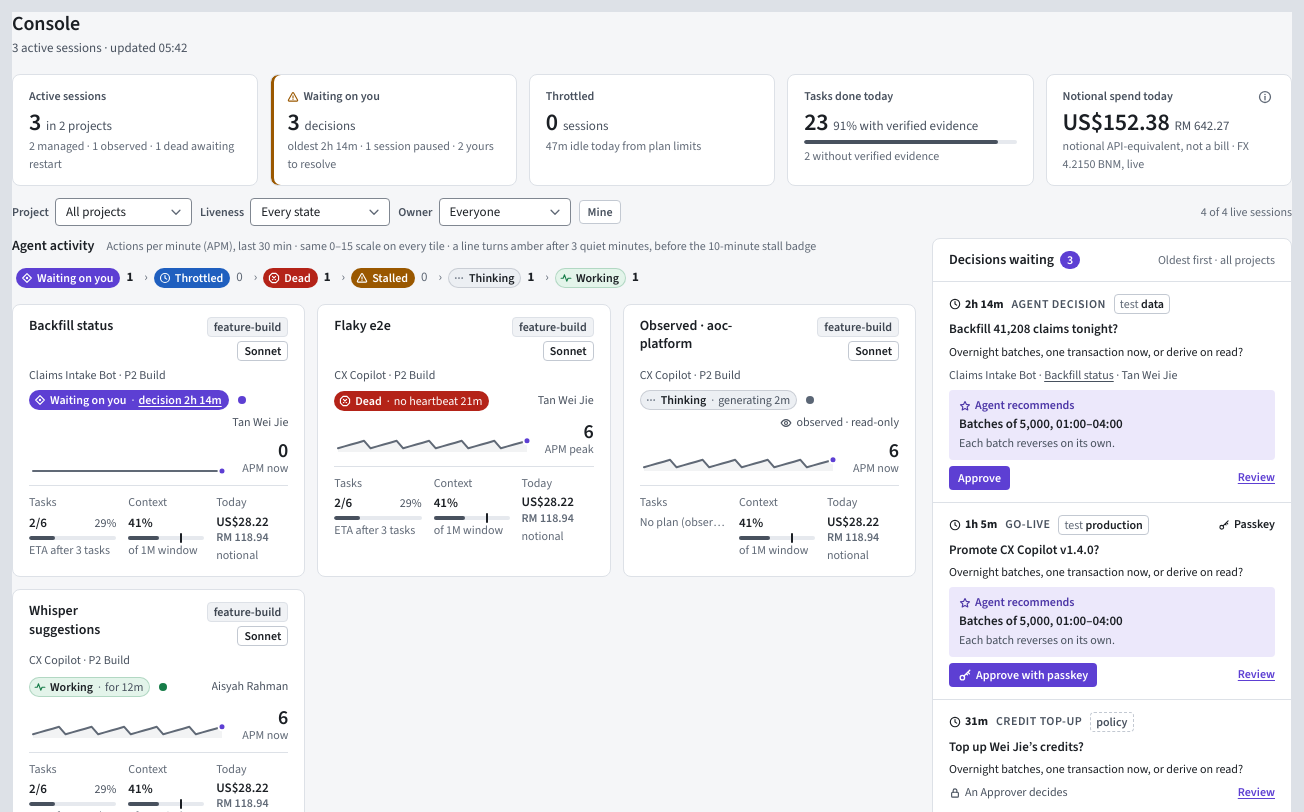
Test: ConsolePage › approves the recommended option from the rail and is role-aware for the rest
Check: the text "An Approver decides" is shown, box [949,784,1068,801]
Check: the text "Agent recommends" below "Agent decision" is shown, box [975,397,1074,413]
Click the button with aria-label "Approve: Batches of 5,000, 01:00–04:00".
click(980, 478)  # box [949,466,1010,490]
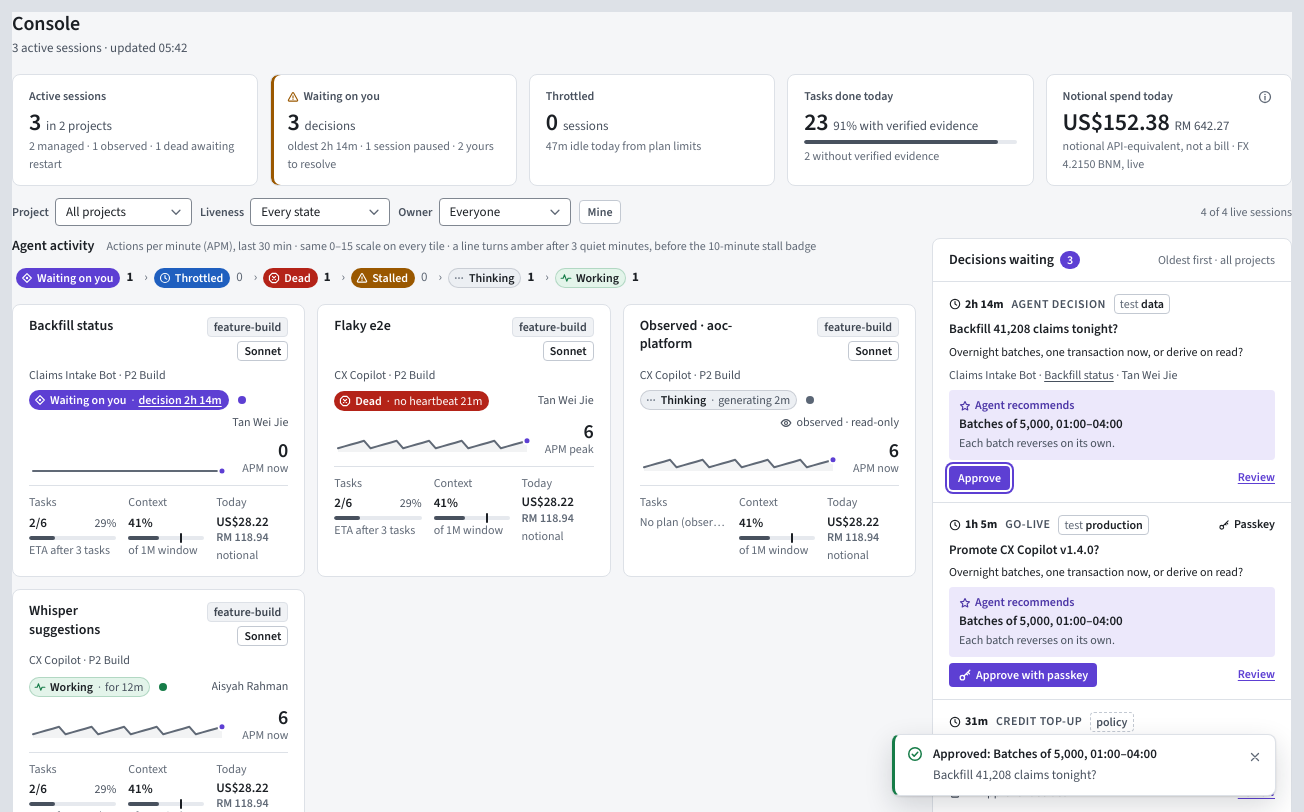
Check: the text "Approved: Batches of 5,000, 01:00–04:00" is shown, box [932,744,1157,762]
